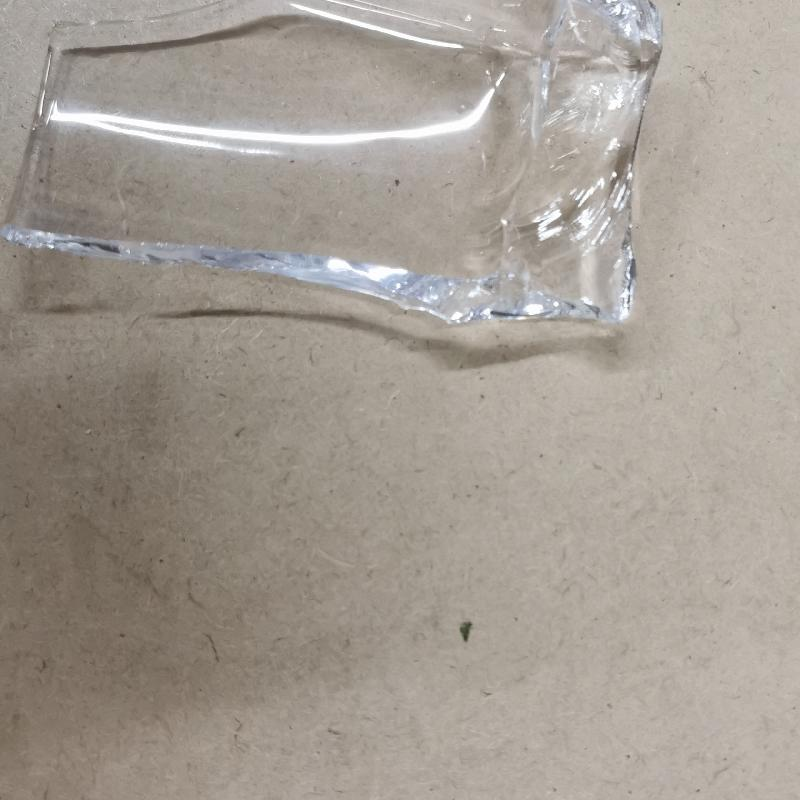glass: (9, 3, 668, 334)
